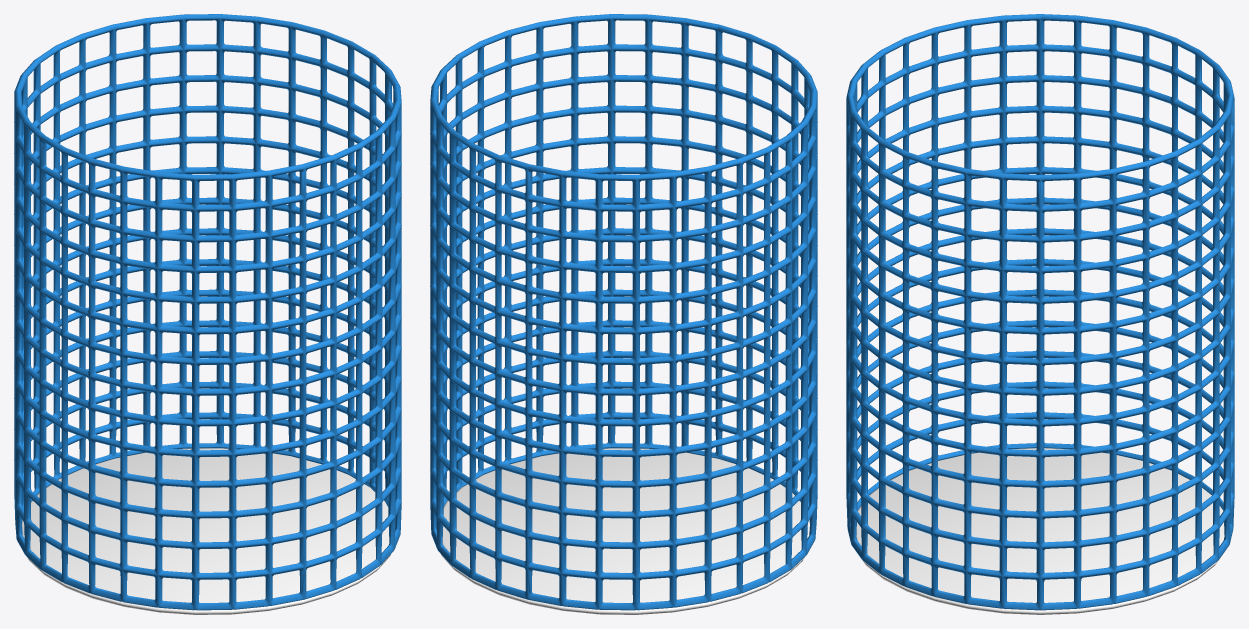
Rendered from pen_holder.glb.
3 views of the same model, side by side, from view 1: azimuth 30°, elevation 25°; view 2: azimuth 150°, elevation 25°; view 3: azimuth 270°, elevation 25° (orthographic).
Visible parts, largest first — view 1: Cylinder.003, Cylinder.002; view 2: Cylinder.003, Cylinder.002; view 3: Cylinder.003, Cylinder.002.
Part boxes in pixels (<box>): Cylinder.003: <box>14,14,401,610</box>; Cylinder.002: <box>22,448,391,614</box>; Cylinder.003: <box>430,14,817,610</box>; Cylinder.002: <box>440,448,809,614</box>; Cylinder.003: <box>846,14,1234,610</box>; Cylinder.002: <box>856,448,1224,614</box>.
Bounding box in the file's own units: 2.11 × 2.65 × 2.11.
